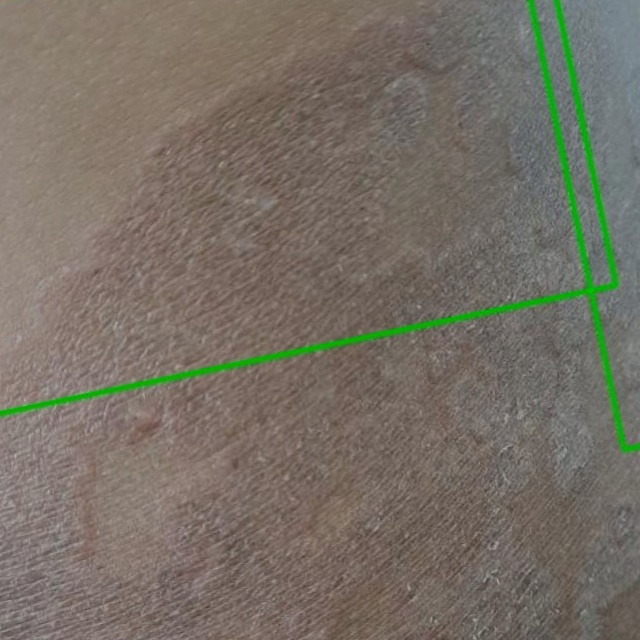Tinea Corporis: (0, 0, 616, 413)
